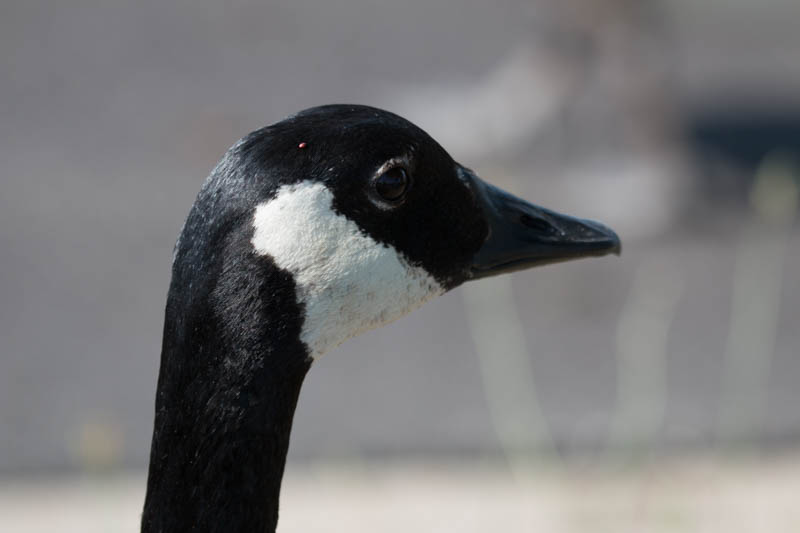goose-head: (159, 103, 622, 364)
